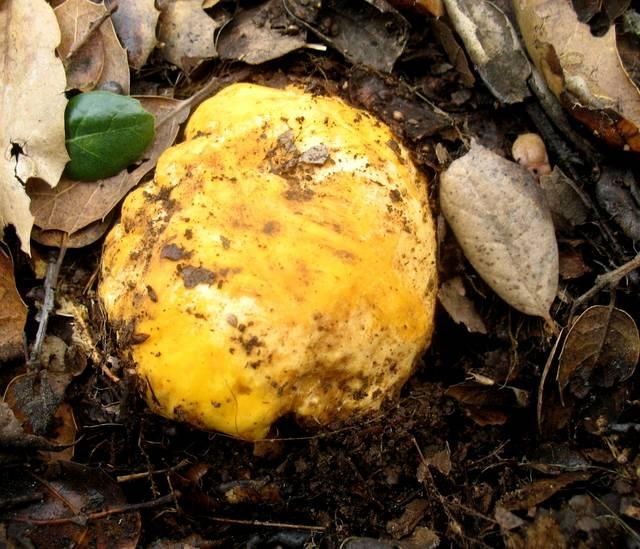edible_mushroom: (95, 79, 439, 443)
